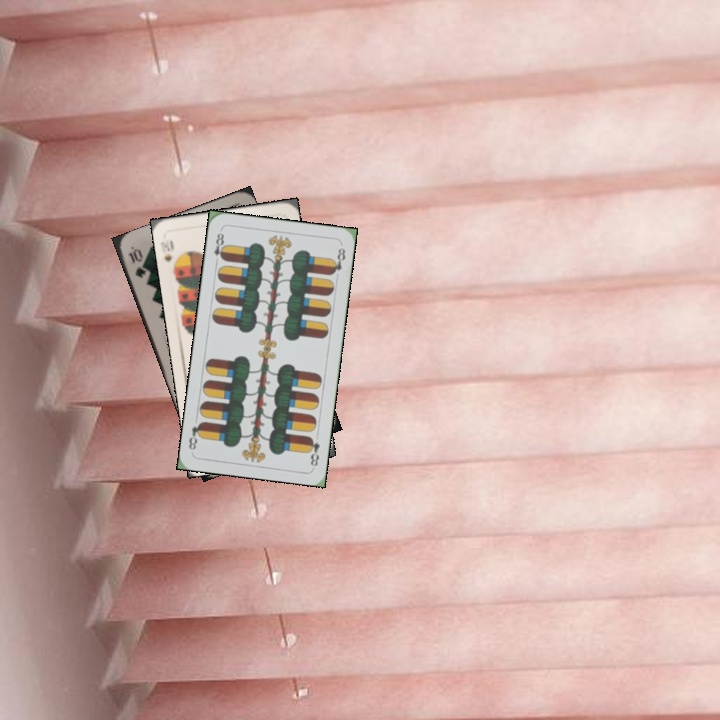E8: (210, 229, 228, 267), (304, 433, 322, 469)
G10: (124, 245, 149, 281)
S10: (157, 236, 179, 273)
